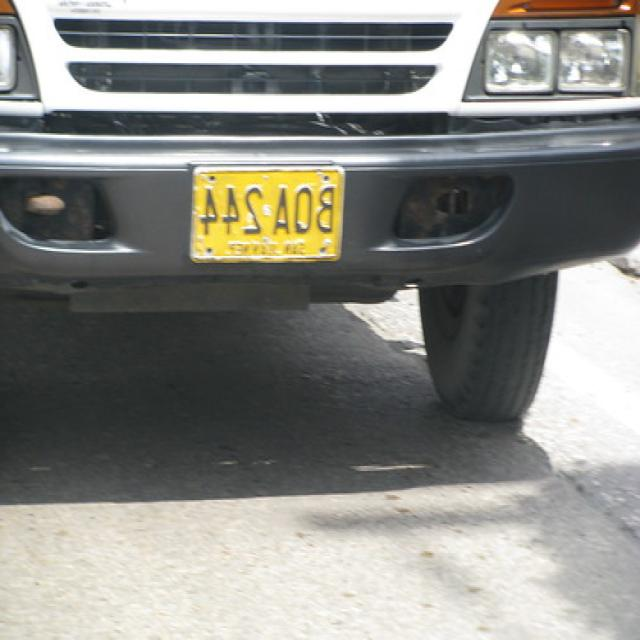placas: (195, 178, 338, 239)
